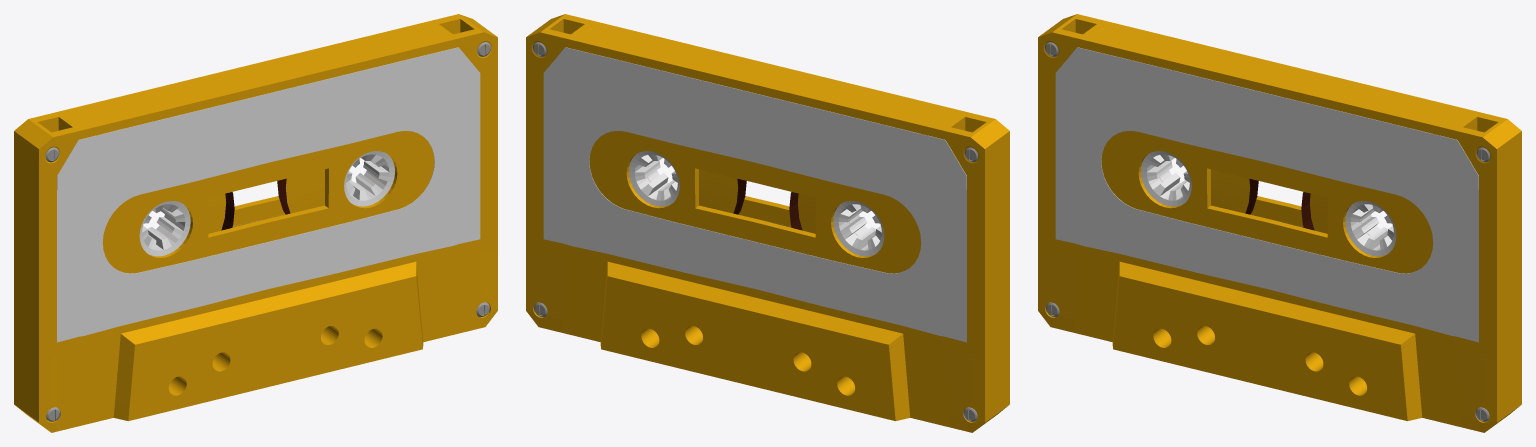
File: cassette2020.fbx
3 views of the same model, side by side, from view 1: azimuth 30°, elevation 25°; view 2: azimuth 150°, elevation 25°; view 3: azimuth 330°, elevation 25° (orthographic).
Visible parts, largest first — view 1: CASSETTE; view 2: CASSETTE; view 3: CASSETTE.
Boxes of the visible parts, <box> form: CASSETTE: <box>14,14,497,432</box>; CASSETTE: <box>526,14,1009,432</box>; CASSETTE: <box>1038,14,1521,432</box>.
Bounding box in the file's own units: 200 × 124 × 29.71.
